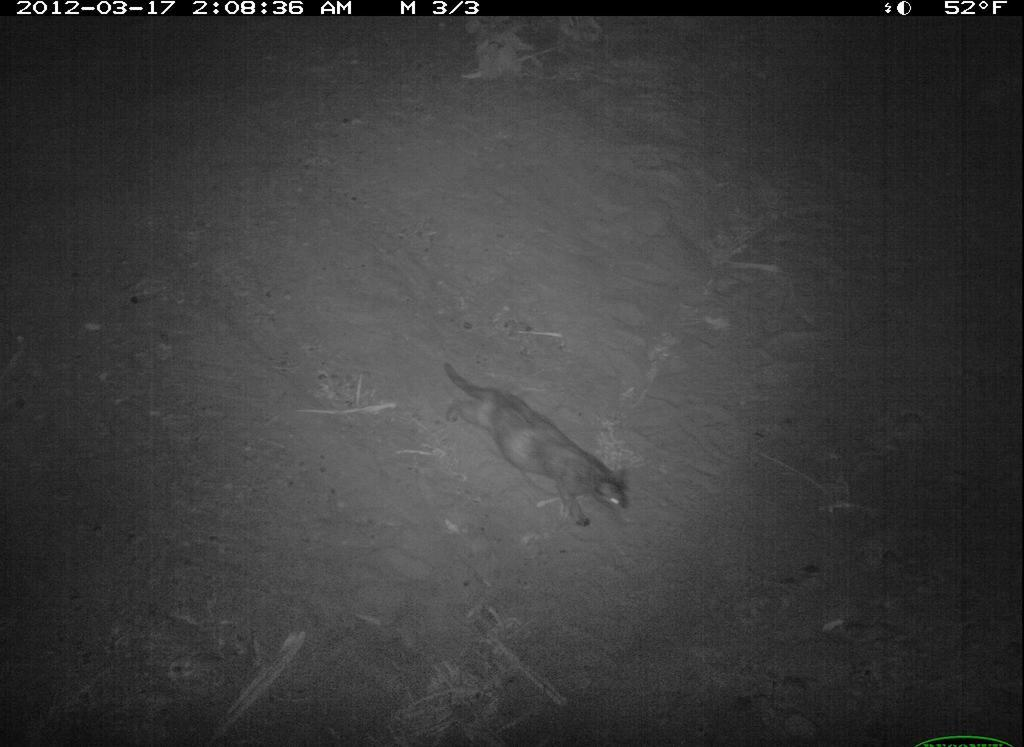cat: (436, 356, 639, 534)
